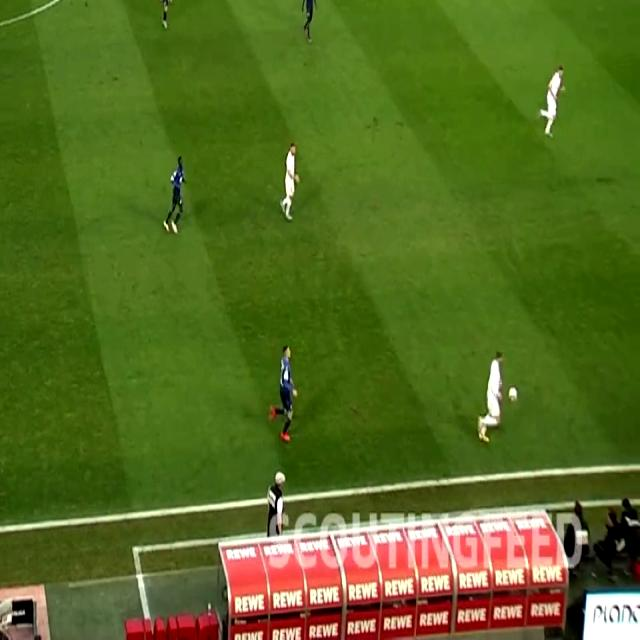ball: (505, 387, 520, 410)
soccer-player: (264, 341, 307, 449), (532, 58, 573, 141), (162, 152, 197, 242), (272, 137, 306, 227), (473, 352, 503, 448), (295, 0, 321, 46), (152, 0, 179, 36)
